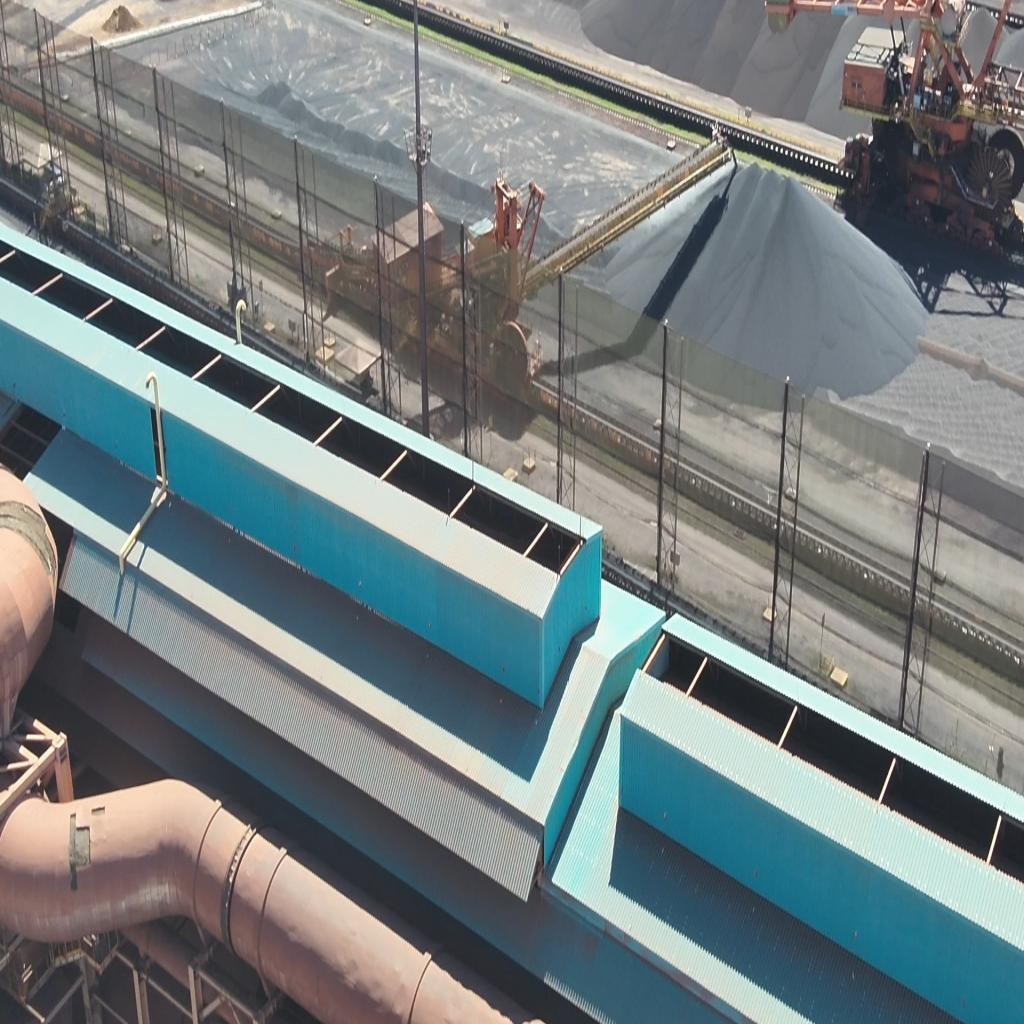Failures: (5, 502, 59, 596), (62, 811, 94, 885), (86, 796, 108, 825)
